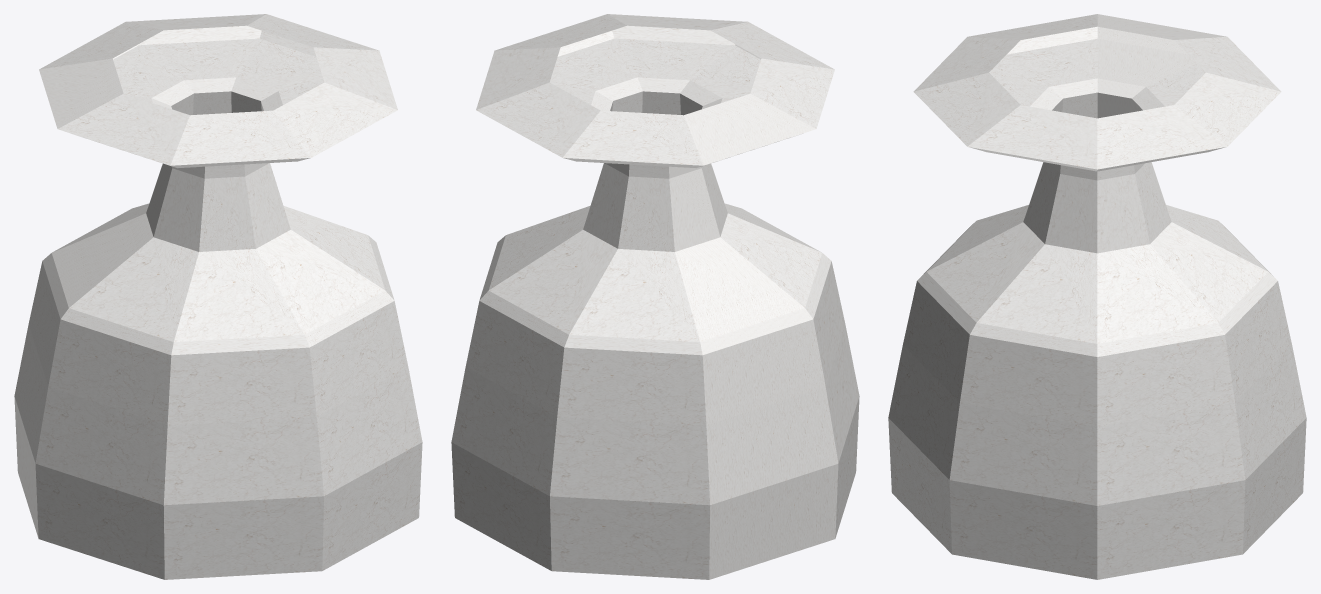
Rendered from PotFixed.fbx.
3 views of the same model, side by side, from view 1: azimuth 30°, elevation 25°; view 2: azimuth 150°, elevation 25°; view 3: azimuth 270°, elevation 25° (orthographic).
Parts seen in each view (by area): view 1: polySurface4; view 2: polySurface4; view 3: polySurface4.
Part boxes in pixels (bbox=[...]): polySurface4: bbox=[14, 14, 422, 579]; polySurface4: bbox=[451, 14, 859, 579]; polySurface4: bbox=[888, 14, 1306, 579].
Bounding box in the file's own units: 16.94 × 19.98 × 16.94.
Materials: 1 (1 with a texture image).
